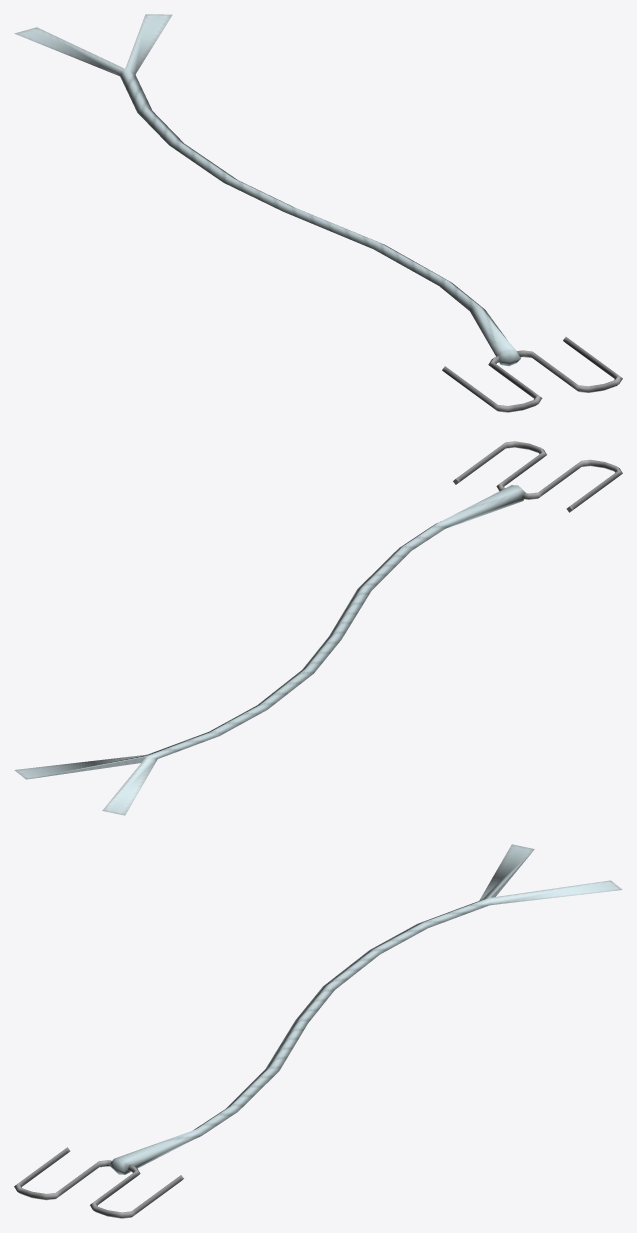
File: jsf_TwistedPaper_02.fbx
The picture shows the model from 3 angles, top to bottom: view 1: azimuth 30°, elevation 25°; view 2: azimuth 150°, elevation 25°; view 3: azimuth 330°, elevation 25°; orthographic projection. The views are drawn at different scales.
Parts seen in each view (by area): view 1: Paper, Wire; view 2: Paper, Wire; view 3: Paper, Wire.
Boxes of the visible parts, left/top/right/bottom form: Paper: left=14, top=14, right=520, bottom=366; Wire: left=442, top=337, right=622, bottom=412; Paper: left=14, top=485, right=525, bottom=815; Wire: left=453, top=441, right=622, bottom=512; Paper: left=109, top=844, right=622, bottom=1174; Wire: left=14, top=1147, right=183, bottom=1218.
Size of the model in its own units: 2.18 by 0.1965 by 11.88.
